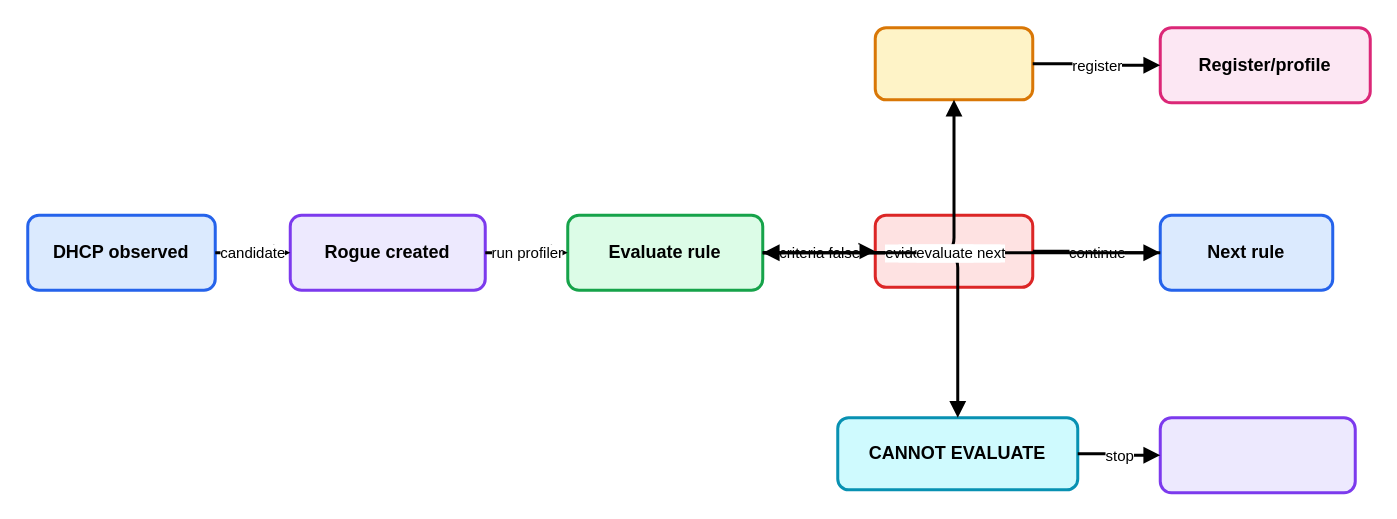
The diagram is 1397 pixels wide and 519 high, and some of its shapes have lost their labels. The centre of each missing label's shape, as x and y in pixels:
"FAIL" belongs at pixel 953 250.
"PASS" belongs at pixel 953 63.
"Remain Rogue" belongs at pixel 1257 455.
